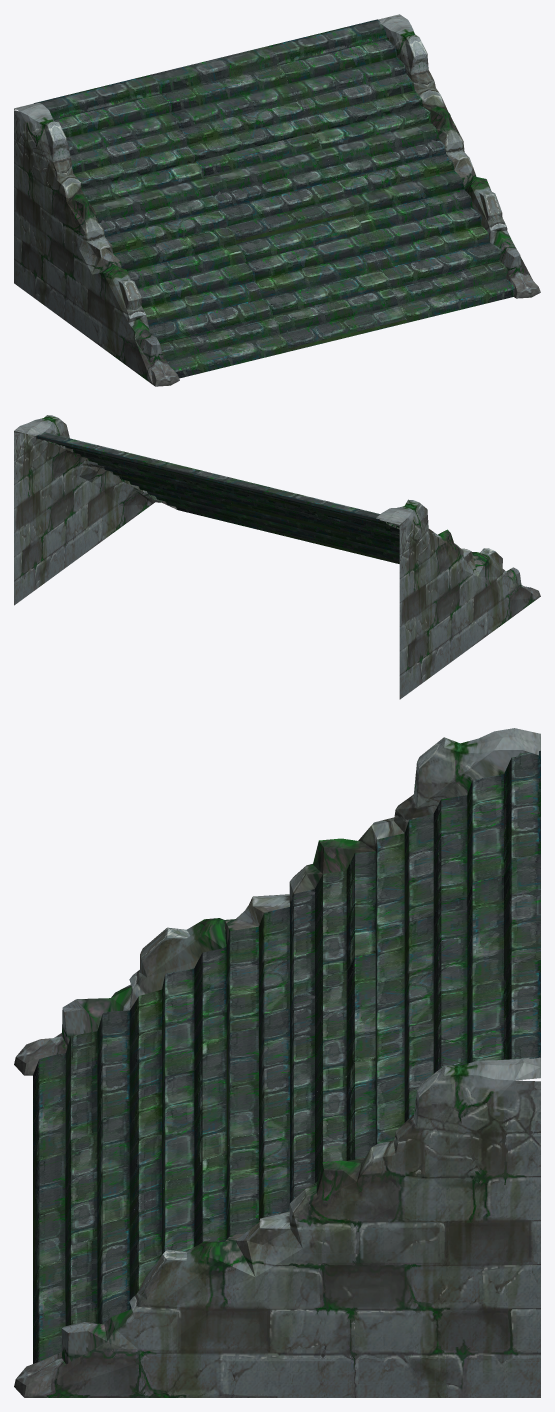
The model's file is stemple_wall_stair_03.fbx.
3 views of the same model, one above another, from view 1: azimuth 30°, elevation 25°; view 2: azimuth 150°, elevation 25°; view 3: azimuth 270°, elevation 25° (orthographic). The views are drawn at different scales.
Parts seen in each view (by area): view 1: obj1.064; view 2: obj1.064; view 3: obj1.064.
Boxes of the visible parts, <box> form: obj1.064: <box>14,14,540,386</box>; obj1.064: <box>14,415,540,699</box>; obj1.064: <box>14,728,540,1397</box>.
Bounding box in the file's own units: 12.91 × 5.69 × 8.3.
